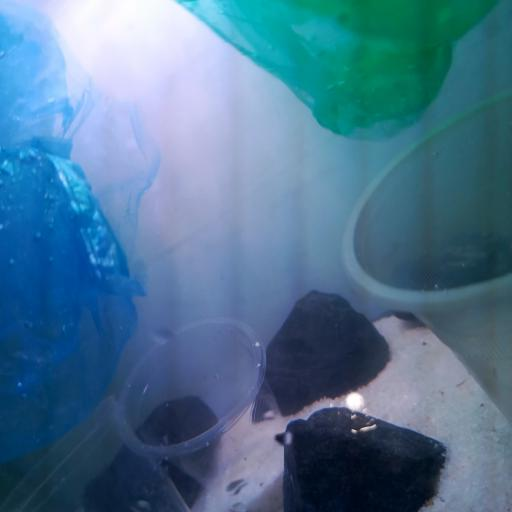plastic_bag: (0, 1, 144, 465), (173, 0, 501, 144)
plastic_cup: (341, 86, 512, 426), (112, 314, 287, 512), (0, 392, 191, 512)
